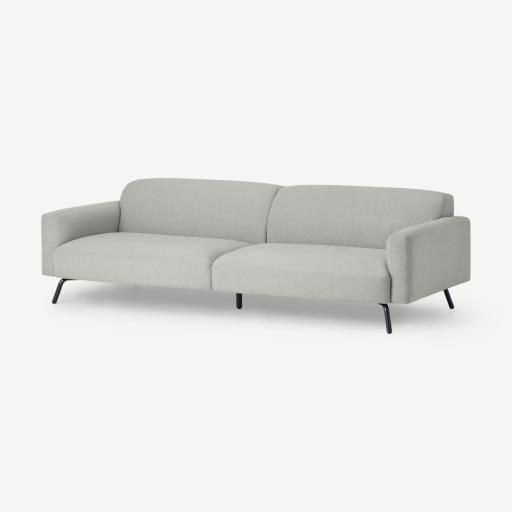back_cushion: (120, 179, 452, 248)
left_arm: (387, 216, 470, 302)
legs: (52, 279, 74, 304), (380, 304, 391, 333), (444, 290, 454, 309), (236, 293, 242, 309)
right_arm: (42, 201, 120, 276)
seat_cushion: (53, 233, 391, 303)
two-seater: (0, 0, 511, 512)
